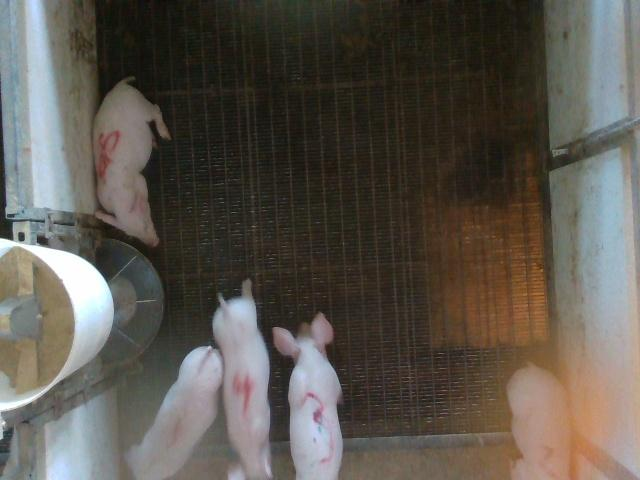pig-1: (125, 346, 222, 479)
pig-2: (506, 362, 570, 478)
pig-3: (272, 312, 342, 478)
pig-4: (212, 279, 271, 479)
pig-5: (92, 76, 170, 246)
